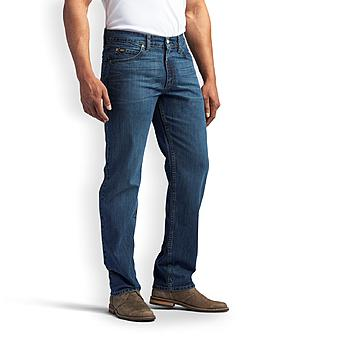Jeans: (97, 27, 212, 294)
